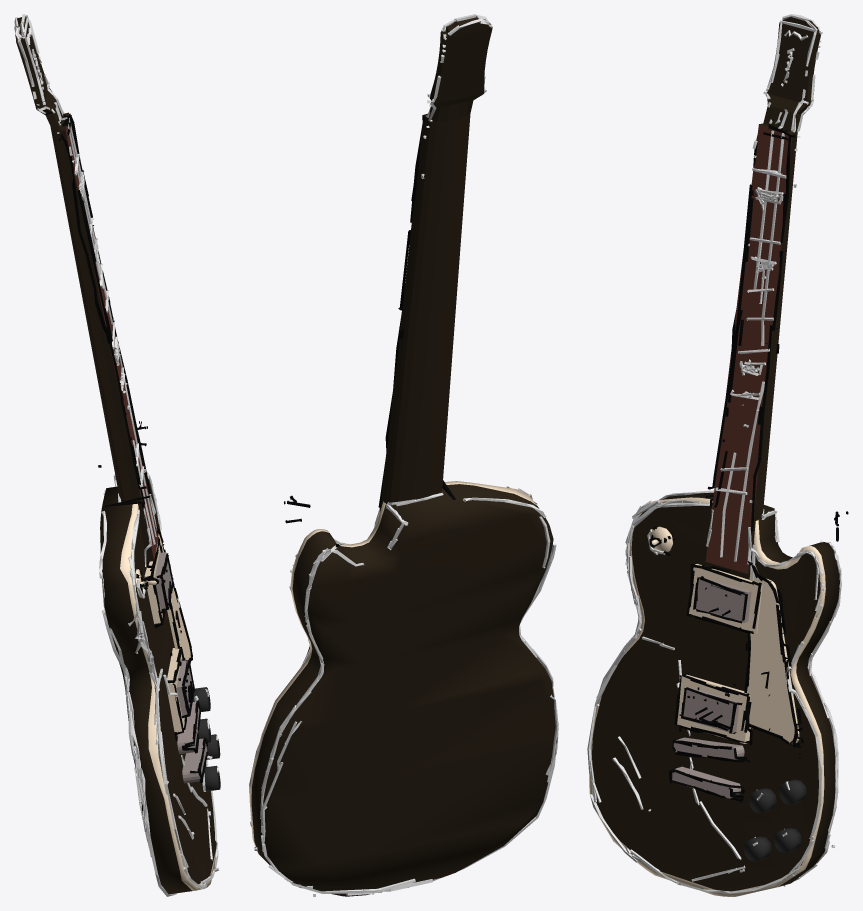
Rendered from guitar.glb.
3 renders of one model, left to right at view 1: azimuth 30°, elevation 25°; view 2: azimuth 150°, elevation 25°; view 3: azimuth 270°, elevation 25°, orthographic. The views are drawn at different scales.
Parts seen in each view (by area): view 1: guitar_, lines_white_guitar, lines_black_guitar; view 2: guitar_, lines_white_guitar, lines_black_guitar; view 3: guitar_, lines_white_guitar, lines_black_guitar.
Part boxes in pixels (x1,y1,x2,y2): guitar_: [15, 17, 220, 894]; lines_white_guitar: [14, 14, 219, 896]; lines_black_guitar: [58, 113, 207, 782]; guitar_: [249, 17, 557, 896]; lines_white_guitar: [249, 14, 558, 896]; lines_black_guitar: [284, 113, 455, 653]; guitar_: [589, 16, 839, 896]; lines_white_guitar: [587, 14, 841, 893]; lines_black_guitar: [649, 125, 848, 802].
Size of the model in its own units: 0.4913 by 1.92 by 0.5567.
